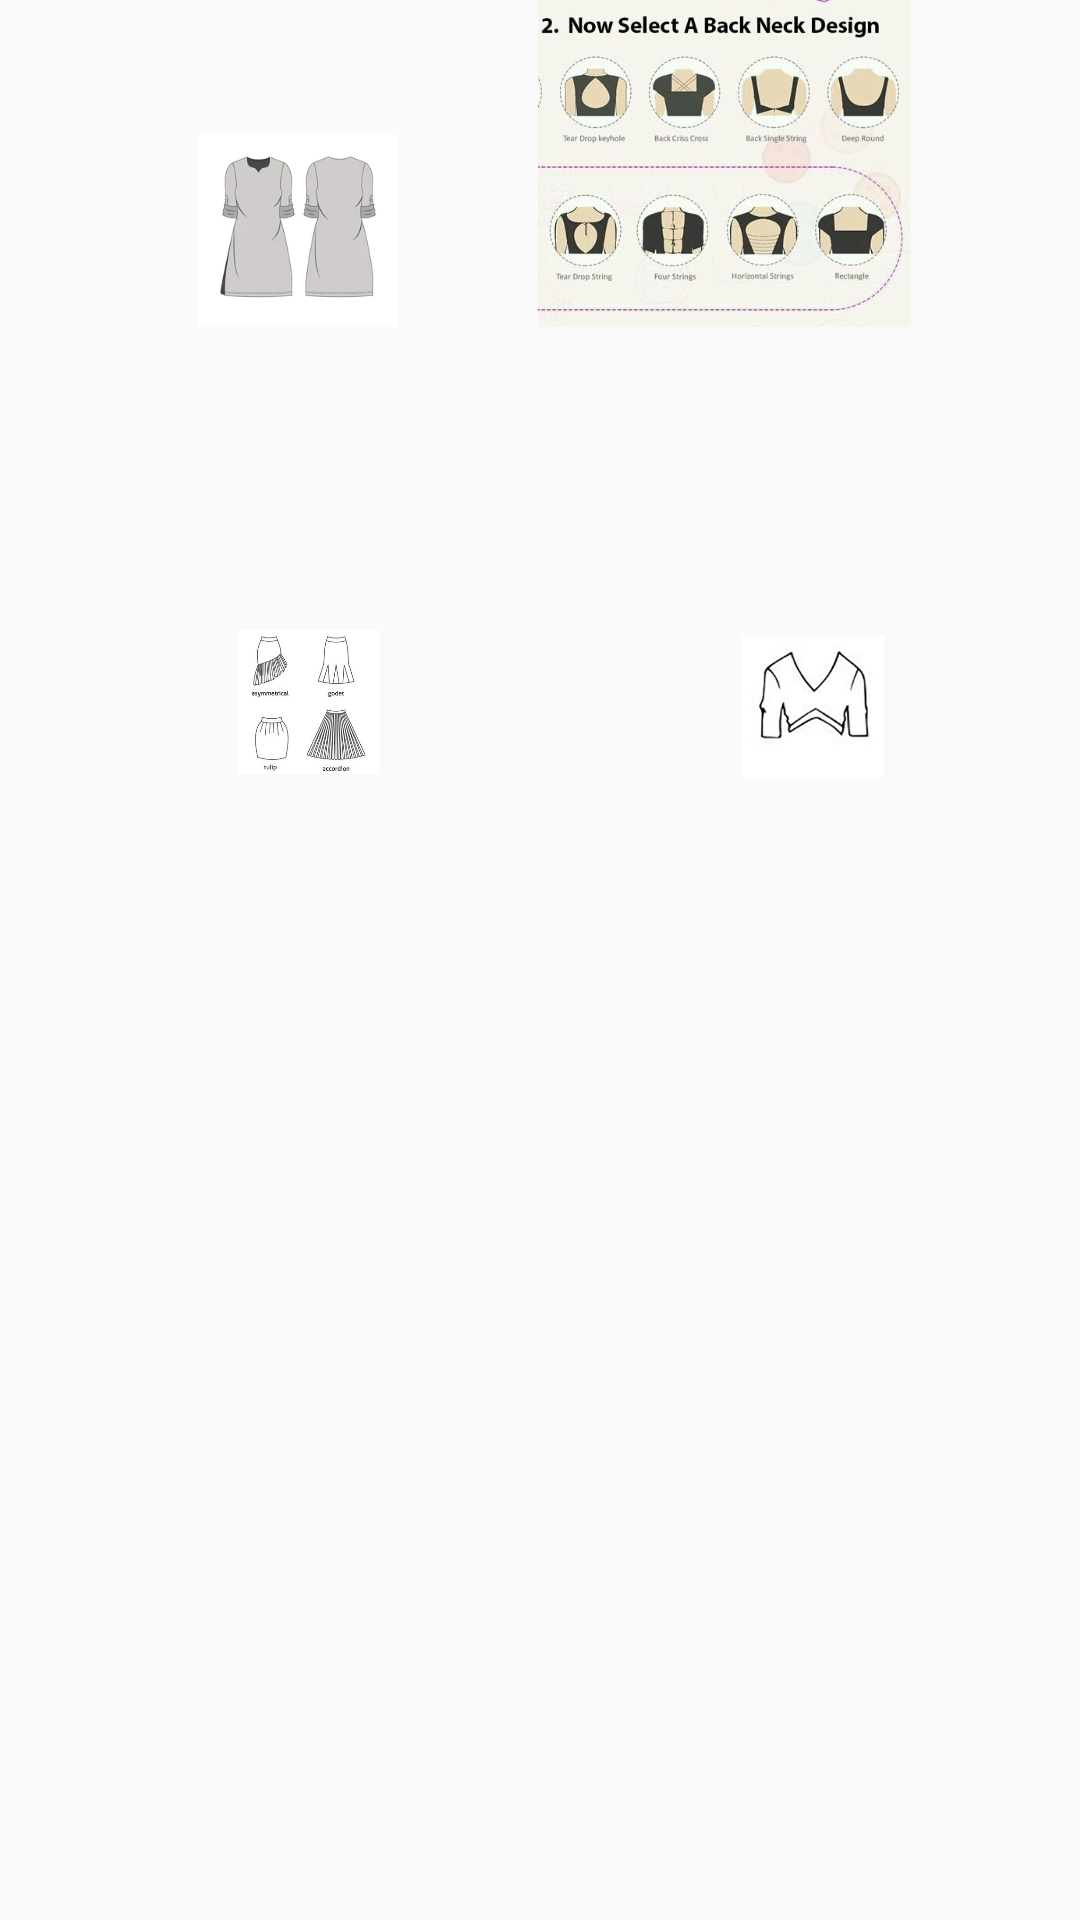

Point at icon controls on the screen. Image size 1080w x 1920h, points as [x,y].
neck wear: [814,695]
skirt wear: [309,703]
